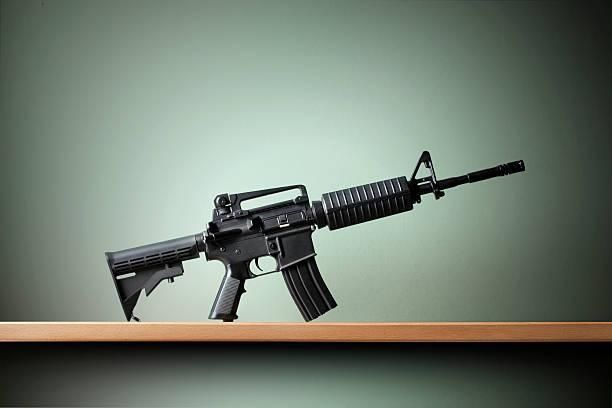larga: (105, 150, 527, 323)
